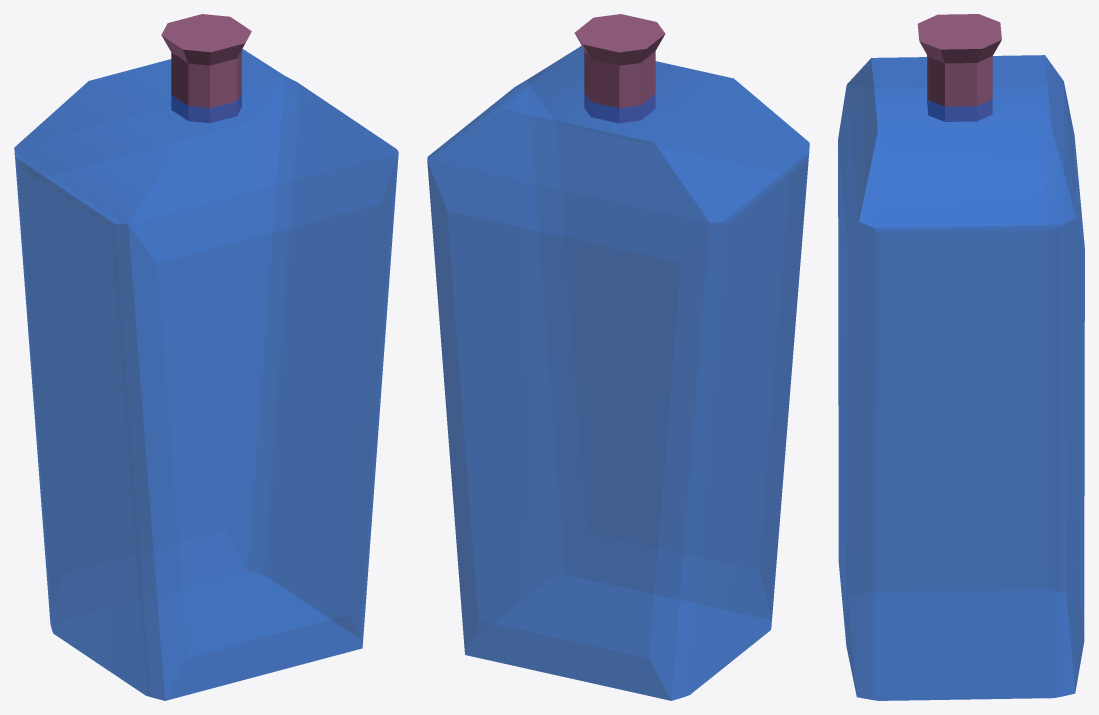
The model's file is ElixirHolder.fbx.
3 renders of one model, left to right at view 1: azimuth 30°, elevation 25°; view 2: azimuth 150°, elevation 25°; view 3: azimuth 270°, elevation 25°, orthographic.
Visible parts, largest first — view 1: Urn_Long; view 2: Urn_Long; view 3: Urn_Long.
Part boxes in pixels (x1=…): Urn_Long: x1=14, y1=14, x2=398, y2=700; Urn_Long: x1=427, y1=14, x2=809, y2=700; Urn_Long: x1=838, y1=14, x2=1084, y2=700.
Size of the model in its own units: 1.01 by 1.97 by 0.7179.
